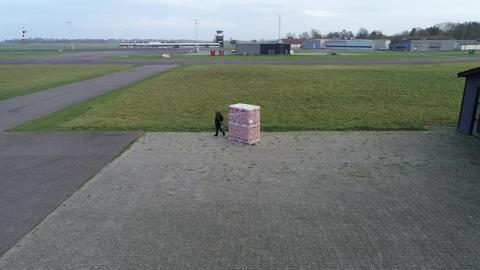RockwoolPallet: (228, 102, 261, 144)
